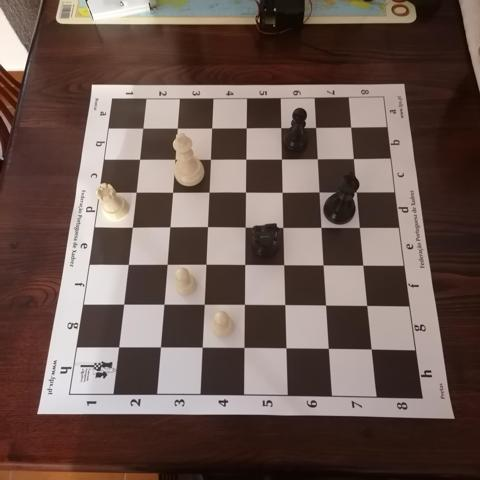xcorner: (310, 151, 325, 166), (274, 151, 289, 166), (167, 152, 182, 167), (132, 152, 147, 167), (350, 184, 365, 199), (275, 184, 290, 199), (165, 185, 180, 200), (128, 185, 143, 200), (353, 220, 368, 235), (276, 220, 291, 235), (238, 220, 253, 235), (200, 220, 215, 235), (162, 220, 177, 235), (124, 220, 139, 235), (357, 258, 372, 273), (317, 258, 332, 273), (277, 258, 292, 273), (198, 258, 213, 273), (159, 258, 174, 273), (361, 299, 376, 314), (156, 298, 171, 313), (365, 343, 380, 358), (322, 343, 337, 358), (237, 342, 252, 357), (111, 341, 126, 356), (344, 119, 358, 134), (308, 120, 323, 134), (274, 120, 288, 135), (239, 120, 253, 135), (204, 121, 219, 135), (170, 121, 184, 136), (136, 121, 150, 136), (239, 151, 253, 166), (203, 152, 218, 166), (313, 184, 327, 199), (238, 185, 253, 199), (201, 185, 216, 199), (315, 220, 329, 235), (238, 258, 252, 273), (120, 258, 135, 272), (320, 299, 334, 314), (278, 299, 293, 313), (237, 299, 252, 313), (197, 298, 211, 313), (116, 298, 130, 313), (195, 342, 209, 357), (347, 151, 361, 165), (280, 343, 294, 357), (153, 342, 167, 356)
